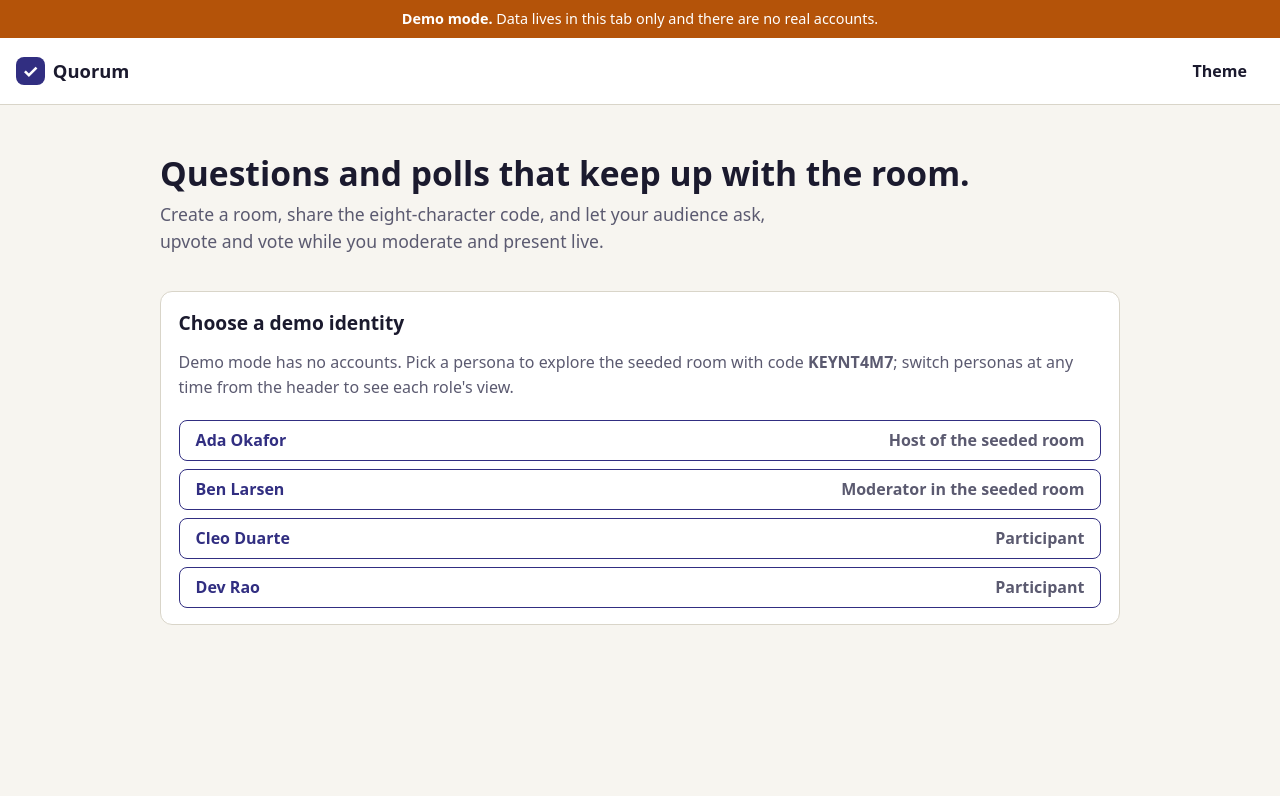
Test: as a moderator or host › approves a pending question from the queue
Click the button "Ben Larsen Moderator in the seeded room" at (240, 489), box [179,469,1101,510]
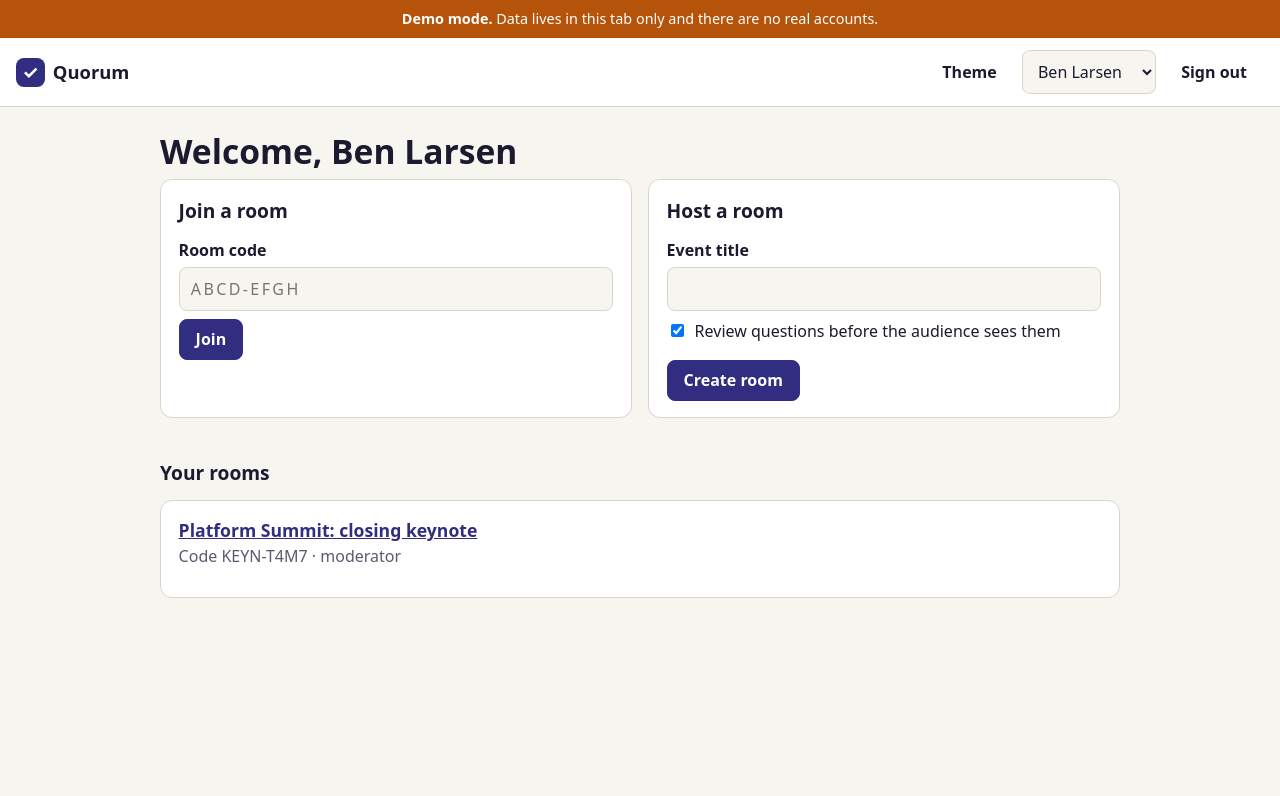
Click the link "Platform Summit: closing keynote" at (328, 530), box [179,518,477,542]
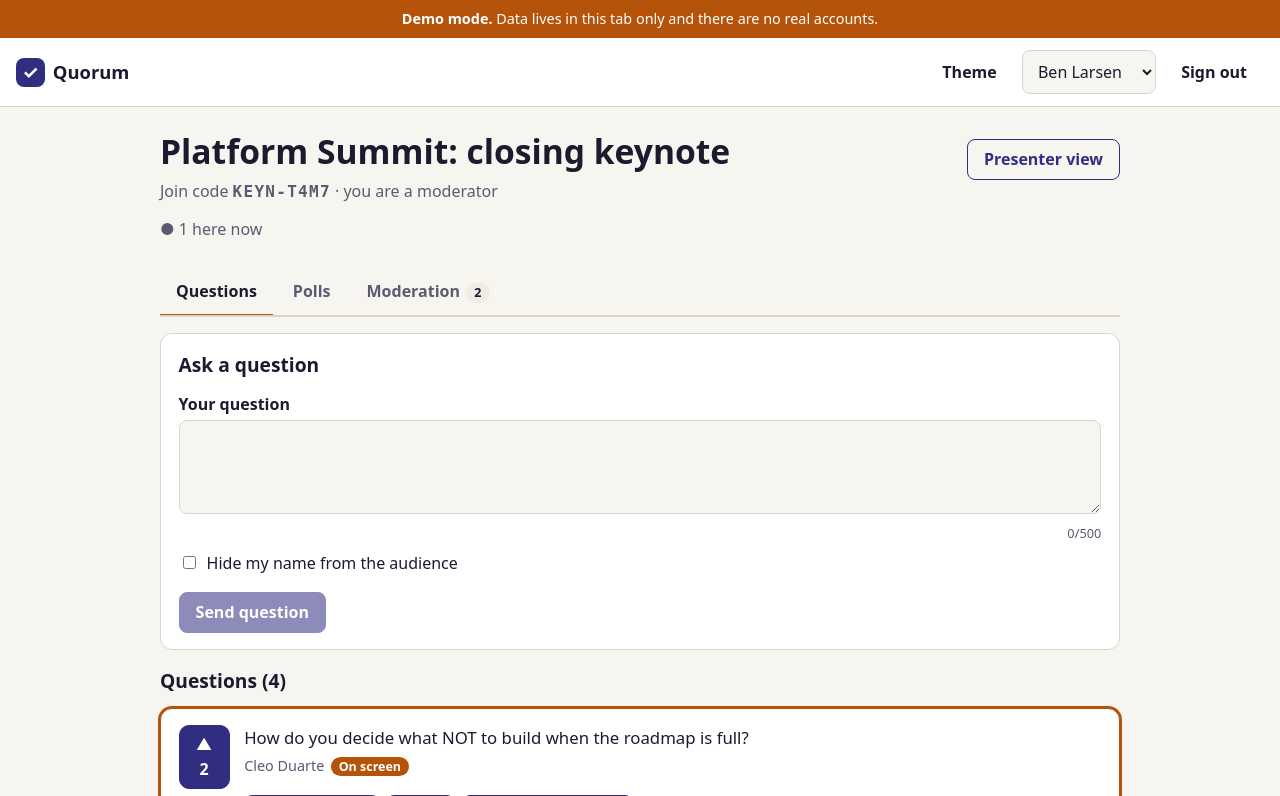
Click the tab "Moderation 2" at (428, 293), box [350,270,506,317]
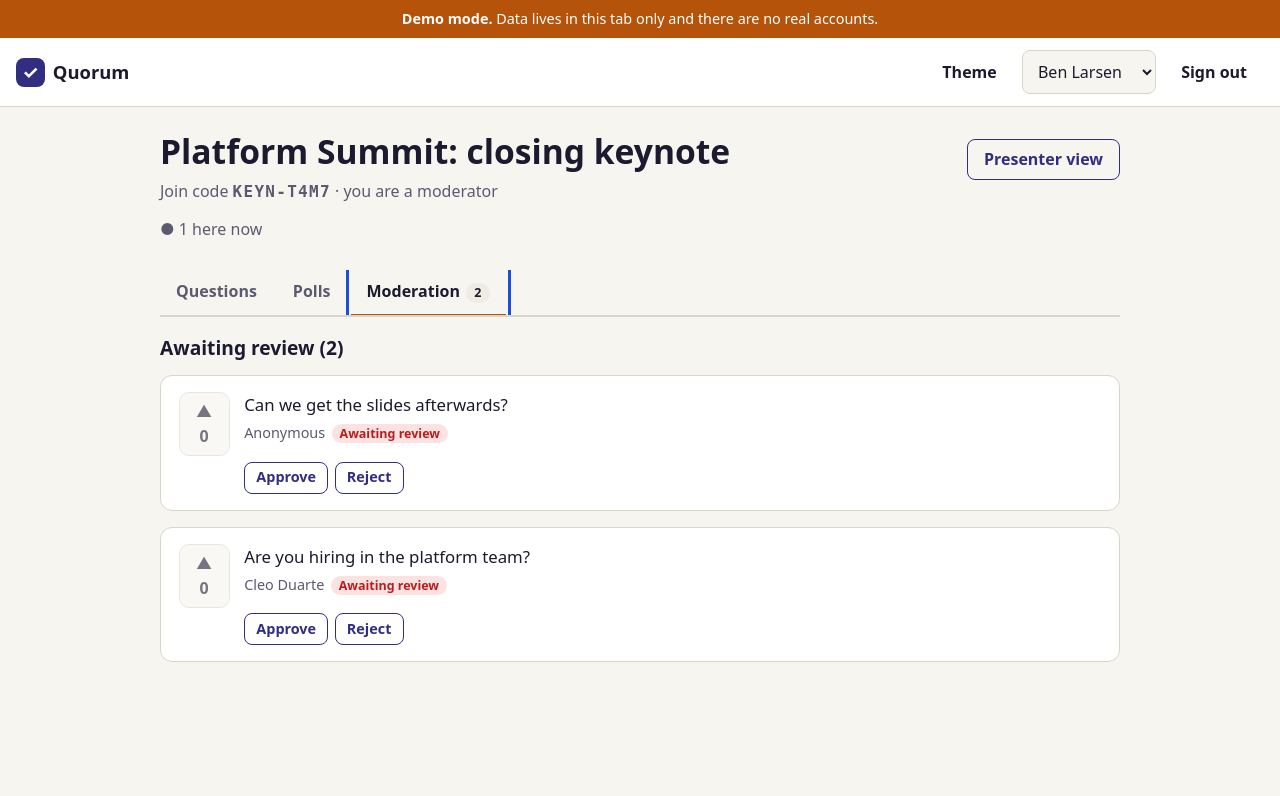
Expected: the heading "Awaiting review (2)" is shown, [160,334,344,361]
Click the button "Approve" below "Cleo Duarte" at (286, 630), box [244,614,328,646]
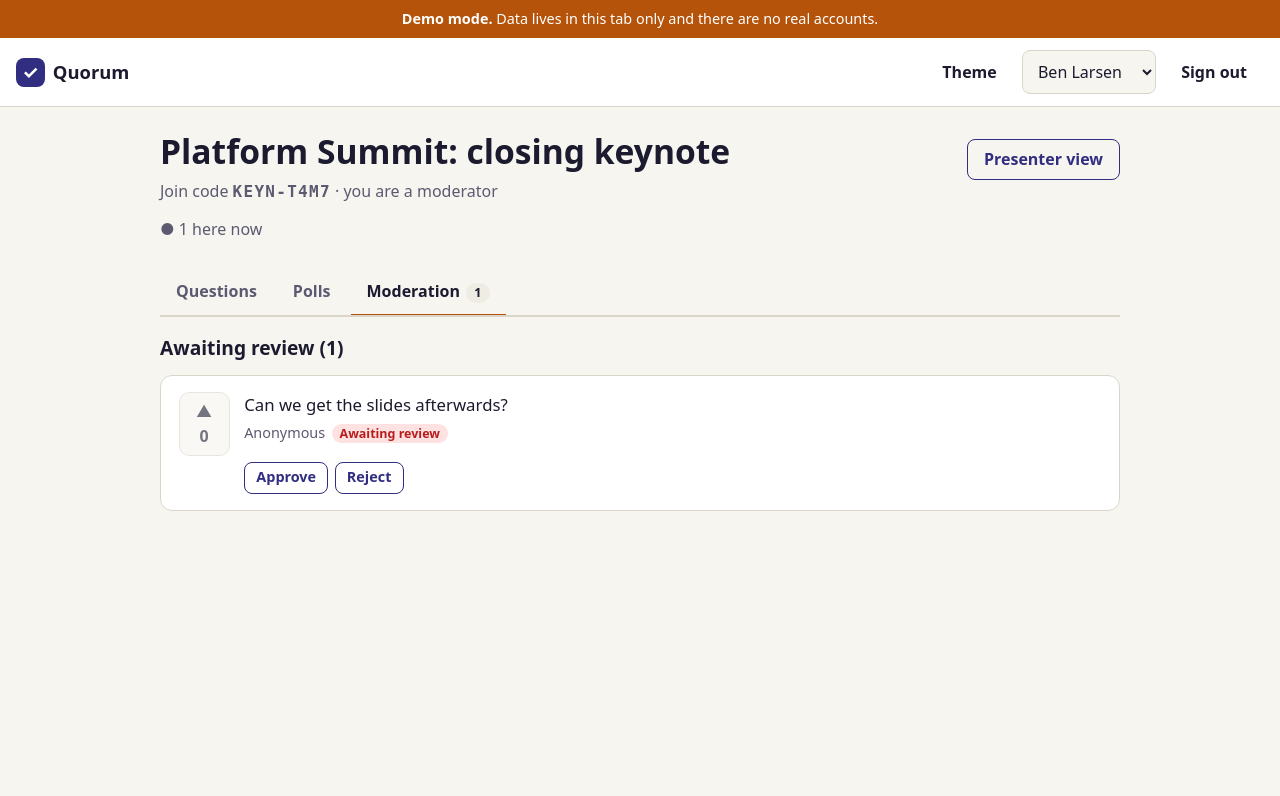
Expected: the heading "Awaiting review (1)" is shown, [160,334,344,361]
